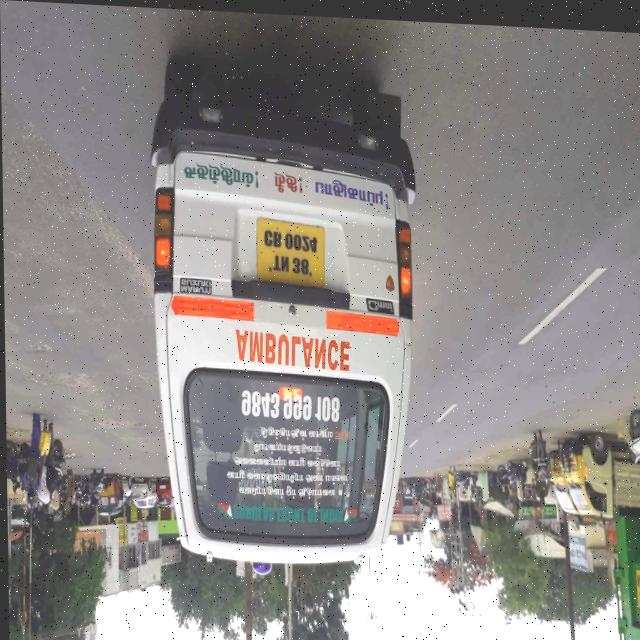plate: (253, 207, 327, 289)
